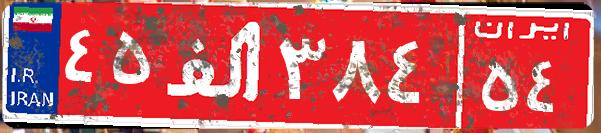3: (273, 28, 330, 110)
4: (385, 28, 445, 110), (57, 26, 110, 107), (525, 38, 570, 115)
5: (475, 38, 525, 113), (110, 28, 158, 105)
8: (330, 28, 385, 110)
الف: (158, 15, 273, 115)
